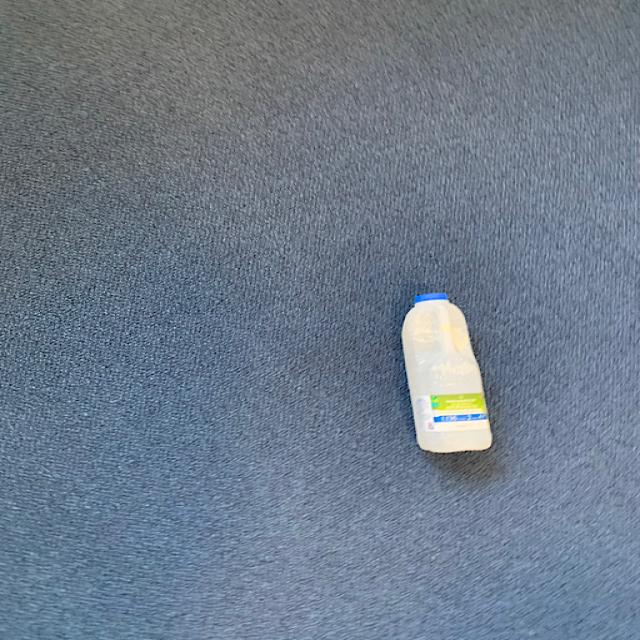litter: (400, 287, 501, 457)
